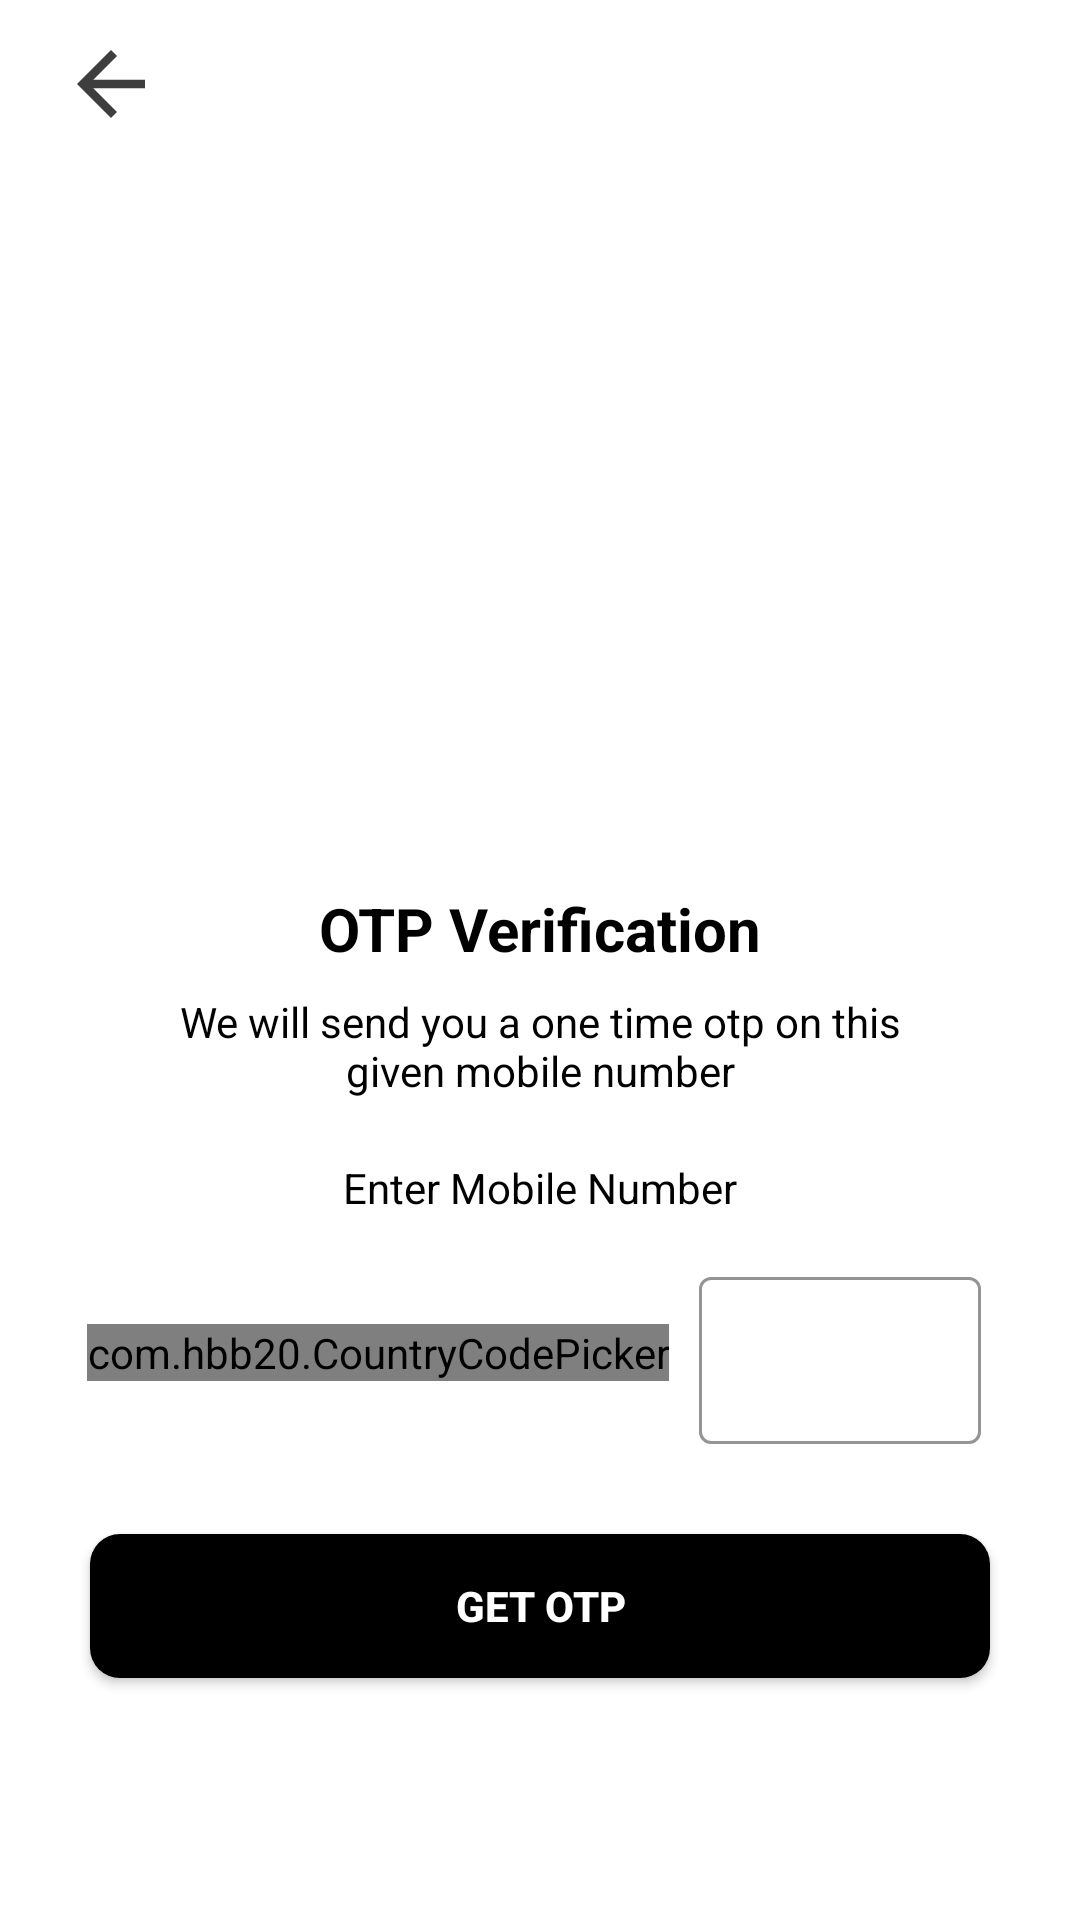

Icons on this 1080px×1920px Android screen, each with its box as BBox(x1, y1, x2, y2):
arrow back: BBox(77, 50, 145, 118)
